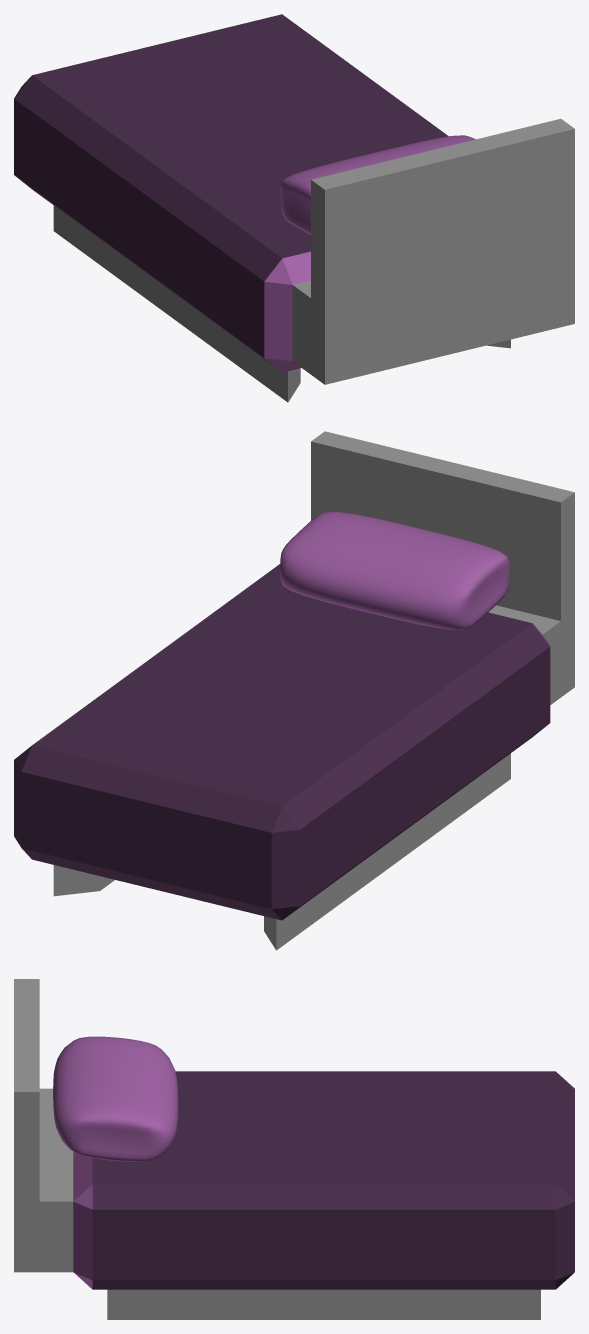
Rendered from bed.fbx.
3 renders of one model, top to bottom at view 1: azimuth 30°, elevation 25°; view 2: azimuth 150°, elevation 25°; view 3: azimuth 270°, elevation 25°, orthographic. The views are drawn at different scales.
Visible parts, largest first — view 1: bed; view 2: bed; view 3: bed.
Boxes of the visible parts, left/top/right/bottom form: bed: left=14, top=14, right=574, bottom=402; bed: left=14, top=431, right=574, bottom=950; bed: left=14, top=979, right=574, bottom=1319.
Bounding box in the file's own units: 2 × 3.67 × 1.69.
